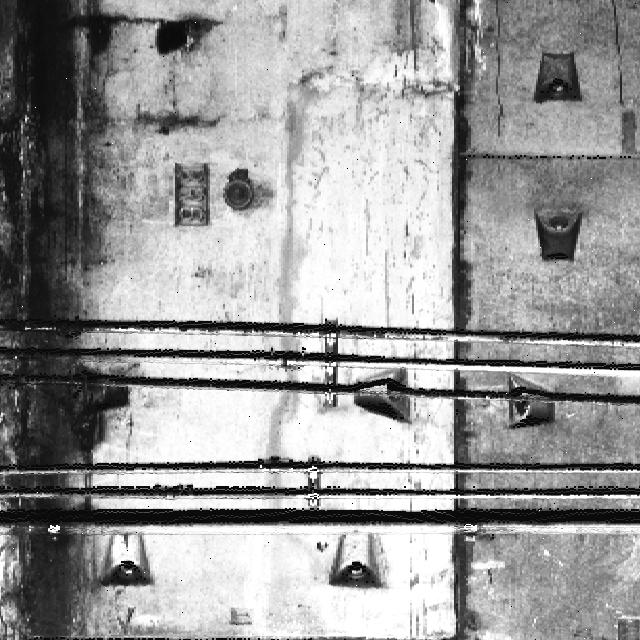leakage: (4, 3, 133, 638), (435, 1, 493, 640)
